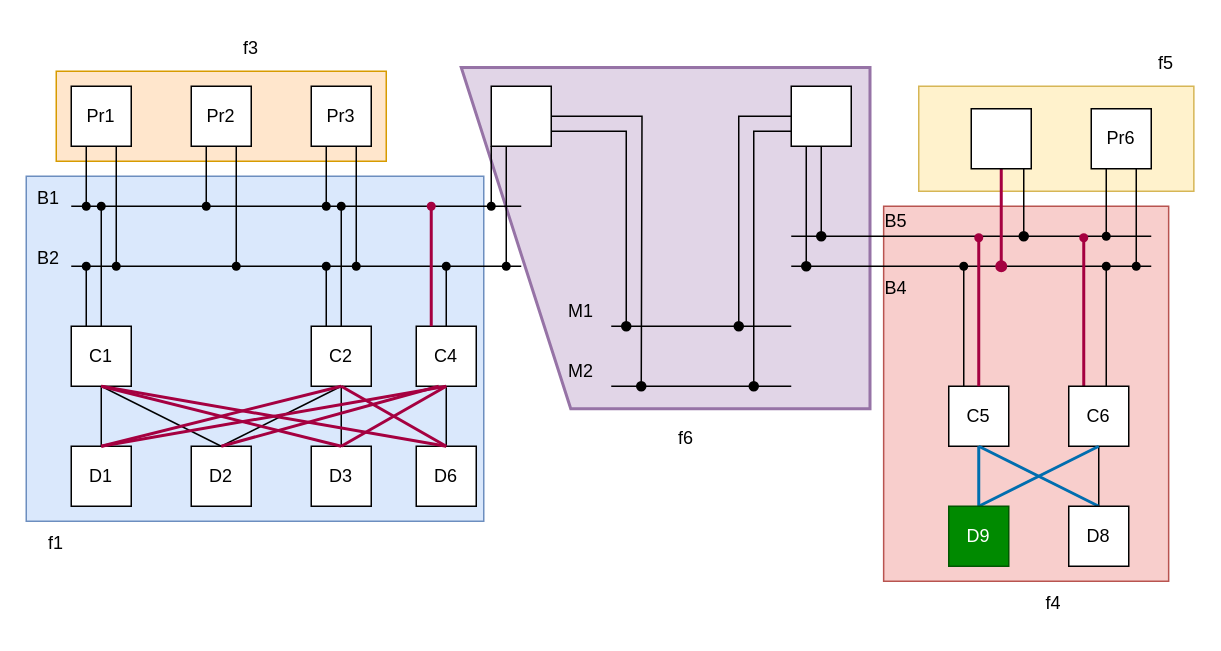
The diagram is 1221 pixels wide and 651 high, and some of its shapes have lost their labels. Each missing label, with the centre of its shape:
A1: point 520,115
A2: point 820,115
Pr5: point 1000,138
